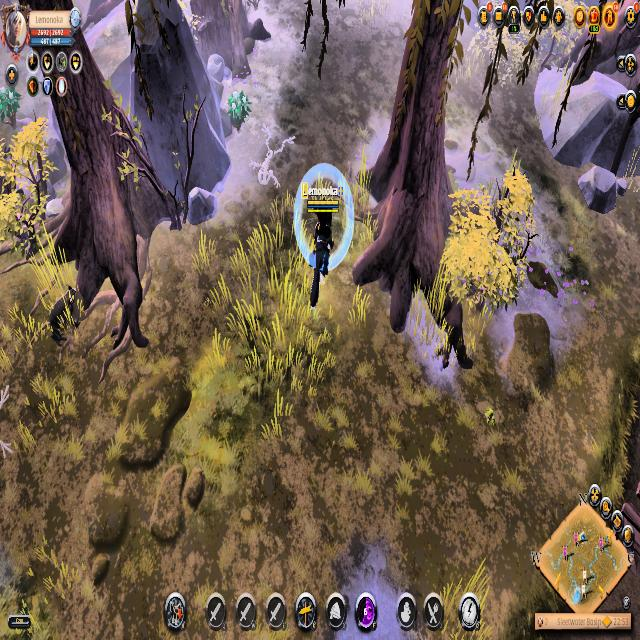fiber tier 3: (224, 87, 252, 133)
